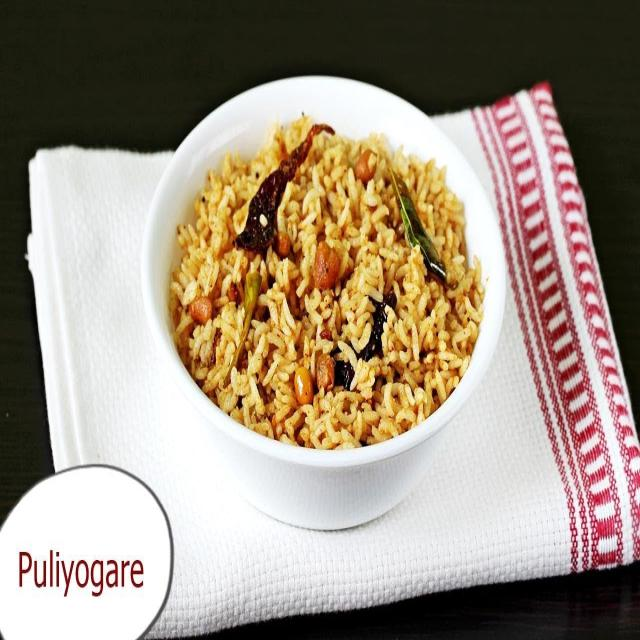puliyogare: (163, 91, 486, 479)
